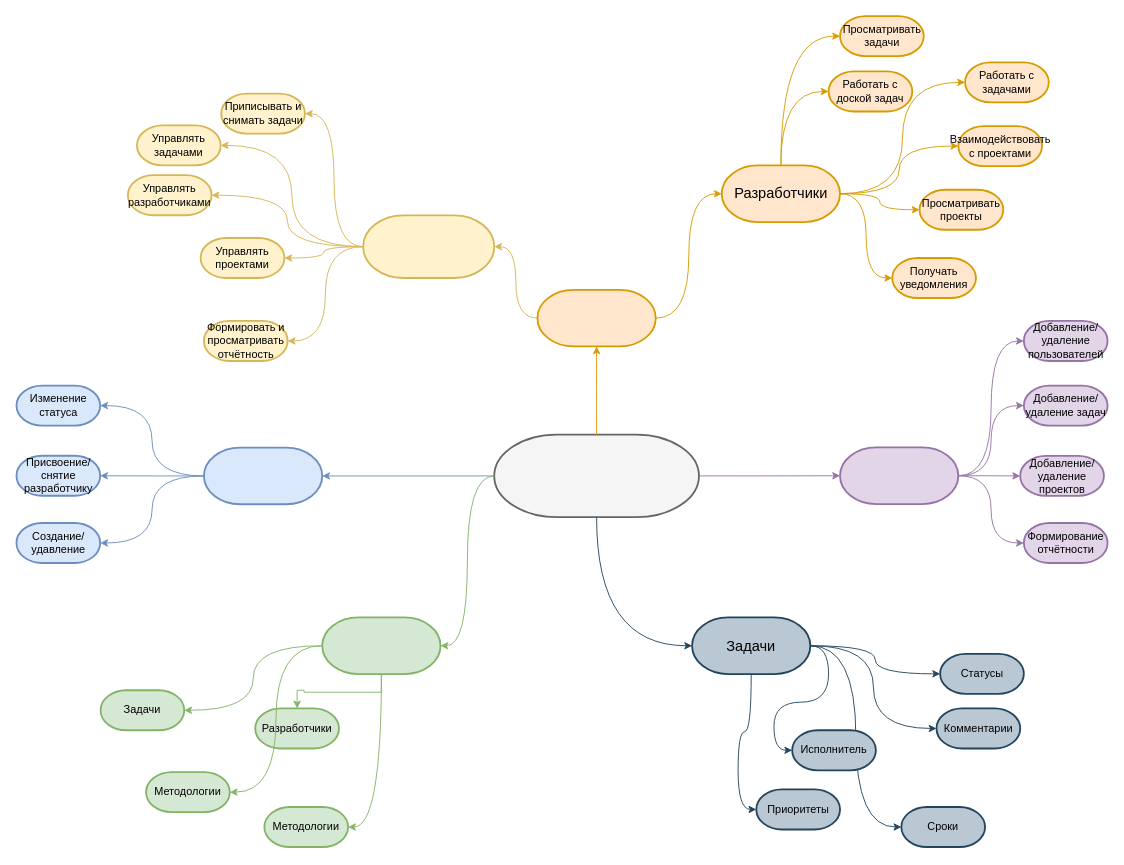
The diagram is 1124 pixels wide and 865 high, and some of its shapes have lost their labels. The shapes that lost their labels are listed below. From the top down, each one's centre as x and y in pixels, then its label:
pixel 428 246: Администраторы
pixel 596 317: Пользователи
pixel 263 475: Взаимодействие с задачами
pixel 596 475: Система управления проектами
pixel 899 475: Администрирование
pixel 381 645: Проекты
